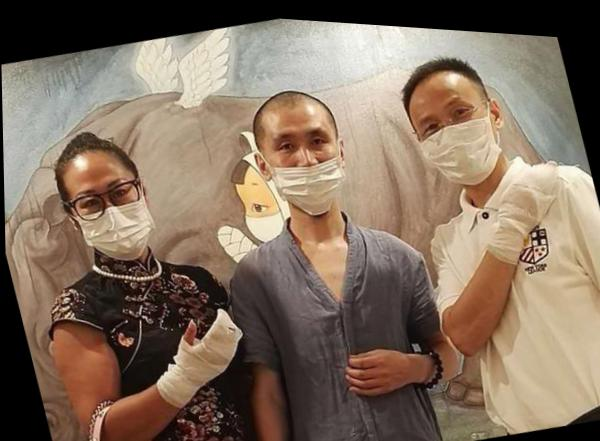OK: (408, 80, 510, 185), (65, 170, 149, 258)
WRONG: (255, 112, 354, 214)
